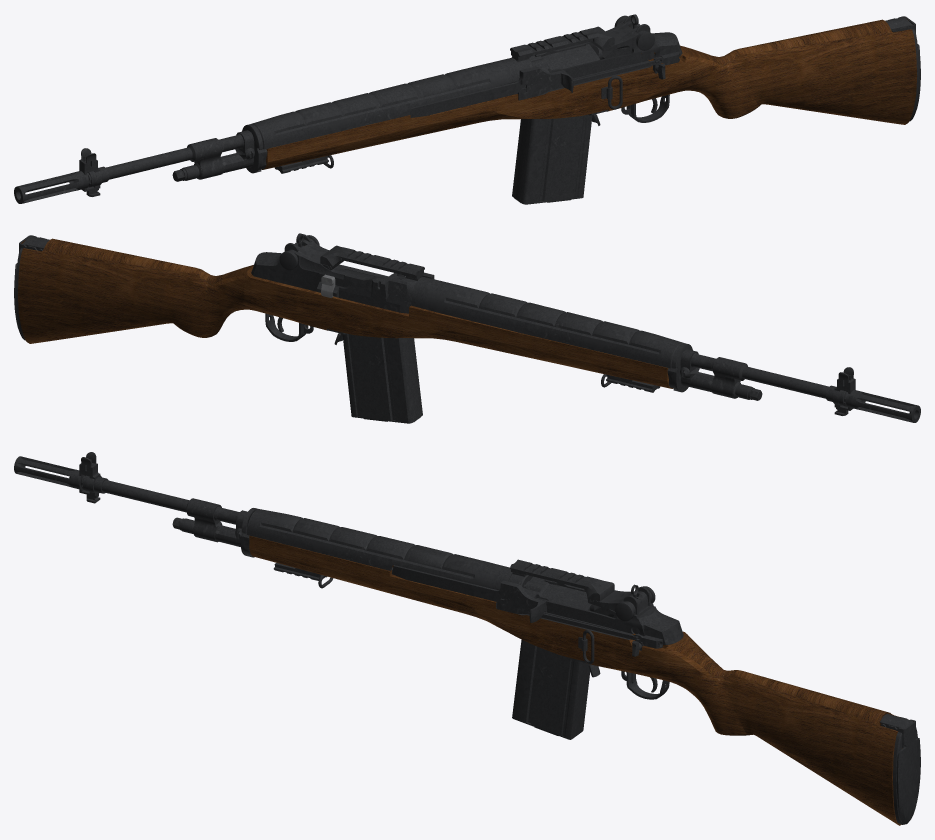
3 views of the same model, one above another, from view 1: azimuth 30°, elevation 25°; view 2: azimuth 150°, elevation 25°; view 3: azimuth 330°, elevation 25° (orthographic).
Parts seen in each view (by area): view 1: m14; view 2: m14; view 3: m14.
Boxes of the visible parts, x1,y1,x2,y2 form: m14: (14,14,920,204); m14: (14,233,920,423); m14: (14,452,920,825).
Size of the model in its own units: 1.12 by 0.2086 by 0.0734.
Materials: 3 (3 with a texture image).
